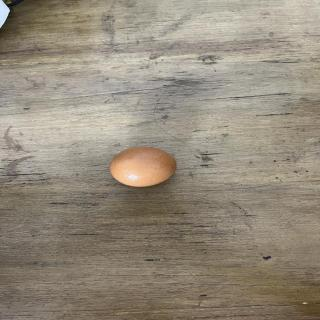Telur: (108, 144, 181, 190)
